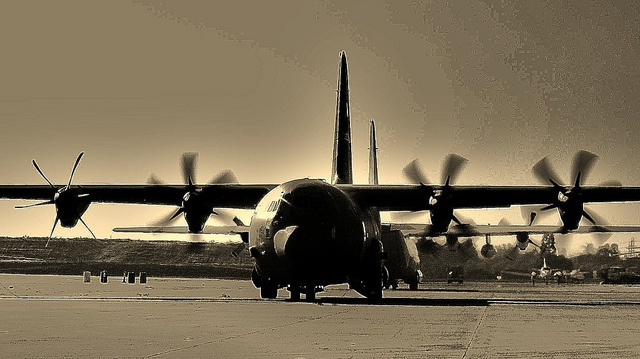Propeller: (534, 148, 627, 253), (21, 156, 116, 252), (399, 149, 489, 245), (150, 164, 252, 248)
